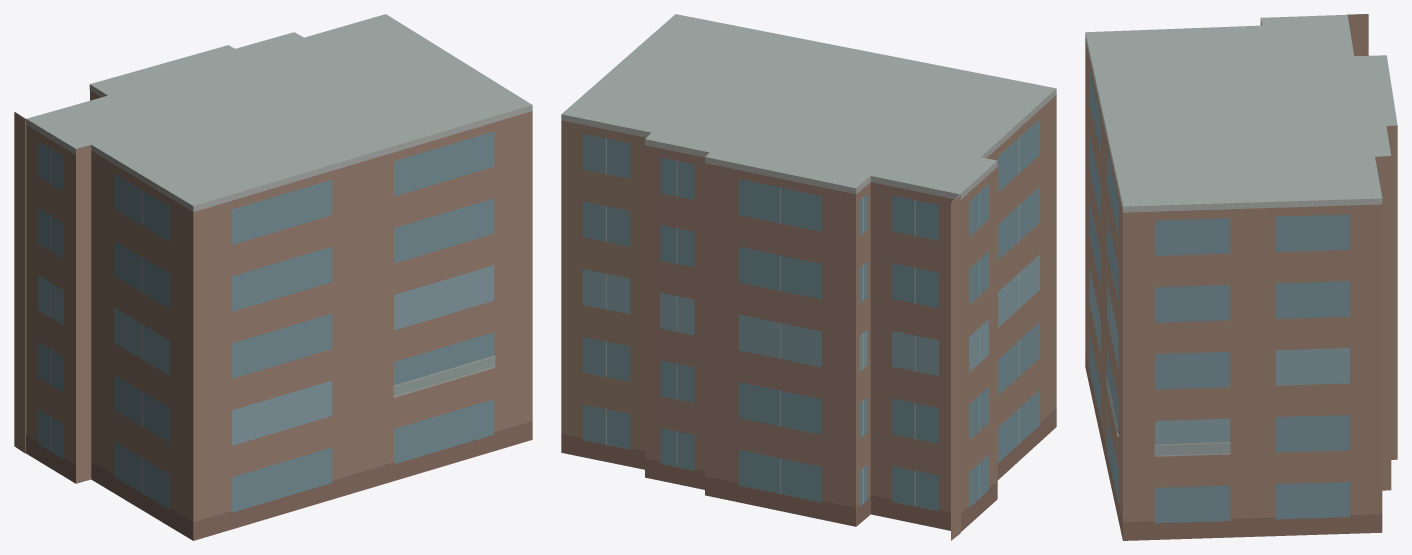
Rendered from survey-upis-32584156.glb.
3 views of the same model, side by side, from view 1: azimuth 30°, elevation 25°; view 2: azimuth 150°, elevation 25°; view 3: azimuth 270°, elevation 25° (orthographic).
Parts seen in each view (by area): view 1: survey-upis-32584156.tmp; view 2: survey-upis-32584156.tmp; view 3: survey-upis-32584156.tmp.
Boxes of the visible parts, <box> form: survey-upis-32584156.tmp: <box>14,14,532,540</box>; survey-upis-32584156.tmp: <box>561,14,1056,540</box>; survey-upis-32584156.tmp: <box>1085,14,1397,540</box>.
Size of the model in its own units: 16.76 by 13.55 by 11.49.
